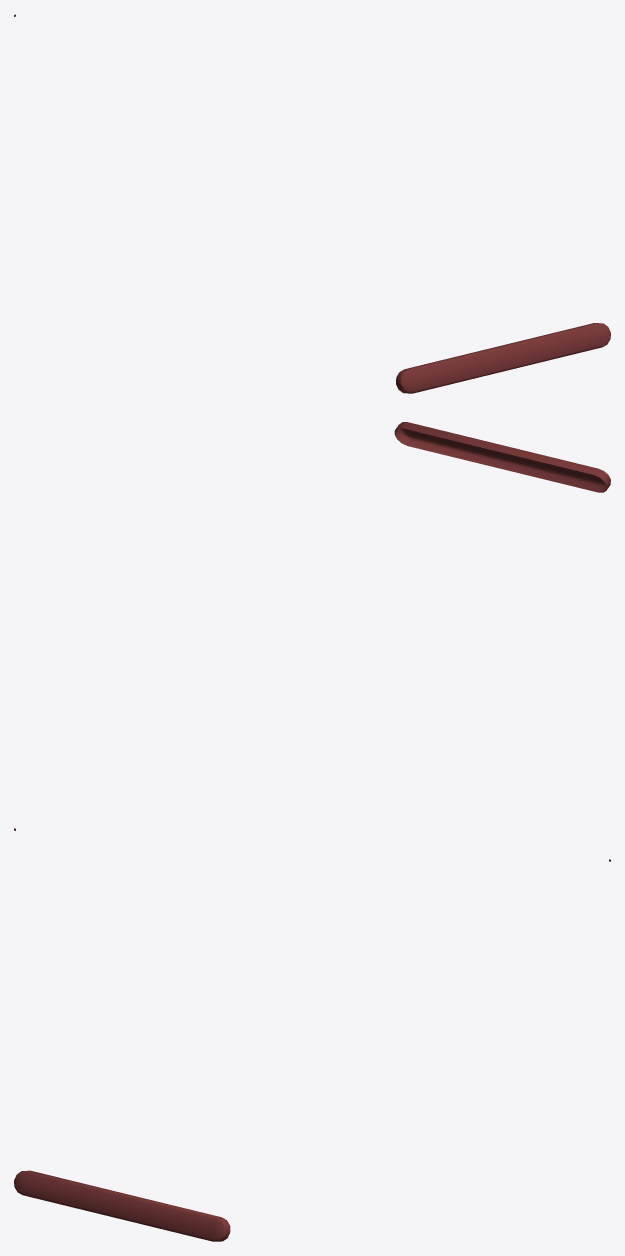
Rendered from AlarmClockButton_30_AlarmClockButton_30_1_GeomSubset_1.obj.
3 renders of one model, top to bottom at view 1: azimuth 30°, elevation 25°; view 2: azimuth 150°, elevation 25°; view 3: azimuth 330°, elevation 25°, orthographic.
Visible parts, largest first — view 1: AlarmClockButton_30_AlarmClockButton_30_1_GeomSubset_1; view 2: AlarmClockButton_30_AlarmClockButton_30_1_GeomSubset_1; view 3: AlarmClockButton_30_AlarmClockButton_30_1_GeomSubset_1.
Part boxes in pixels (<box>): AlarmClockButton_30_AlarmClockButton_30_1_GeomSubset_1: <box>14,14,610,393</box>; AlarmClockButton_30_AlarmClockButton_30_1_GeomSubset_1: <box>14,422,610,830</box>; AlarmClockButton_30_AlarmClockButton_30_1_GeomSubset_1: <box>14,859,610,1241</box>.
Bounding box in the file's own units: 0.1011 × 0.0119 × 0.4075.
